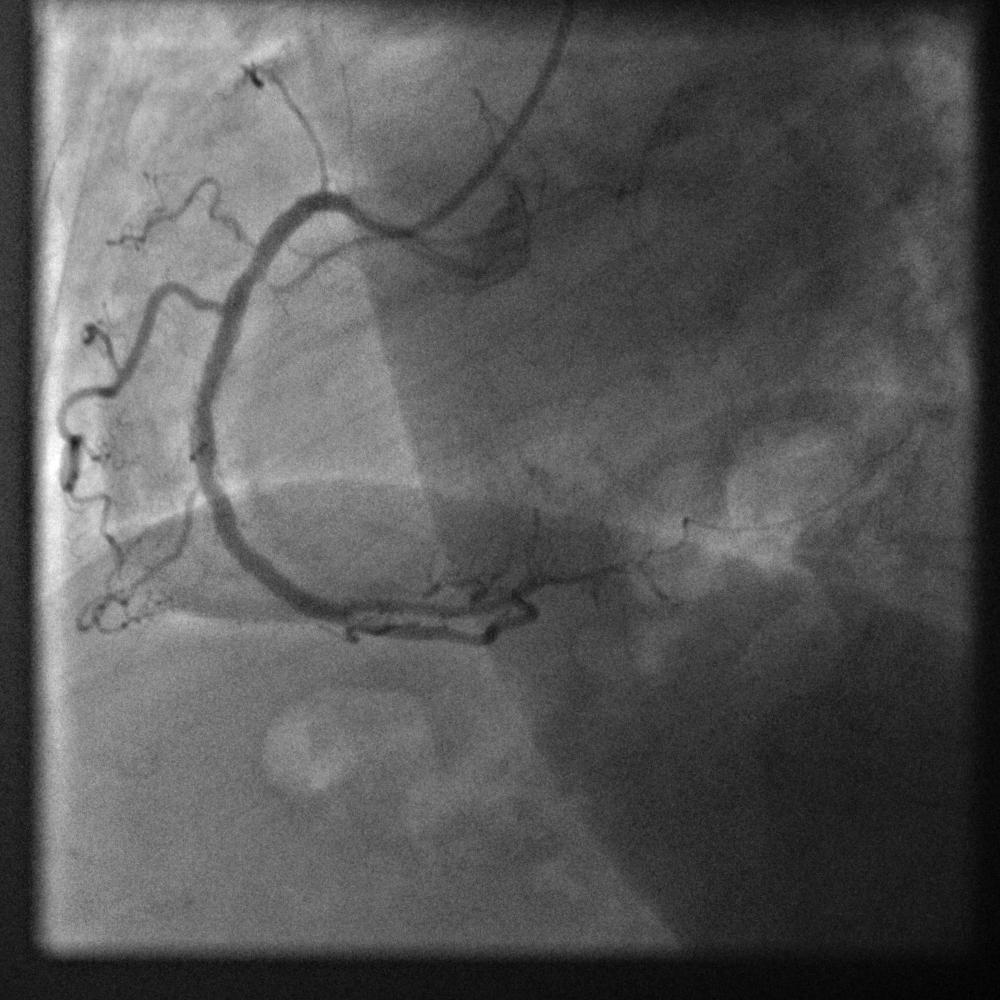Stenosis: (231, 249, 266, 293)
